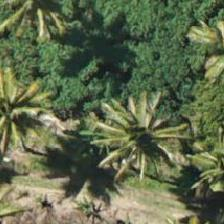coconut_tree: (83, 92, 173, 182), (0, 71, 69, 161), (4, 0, 94, 48)
